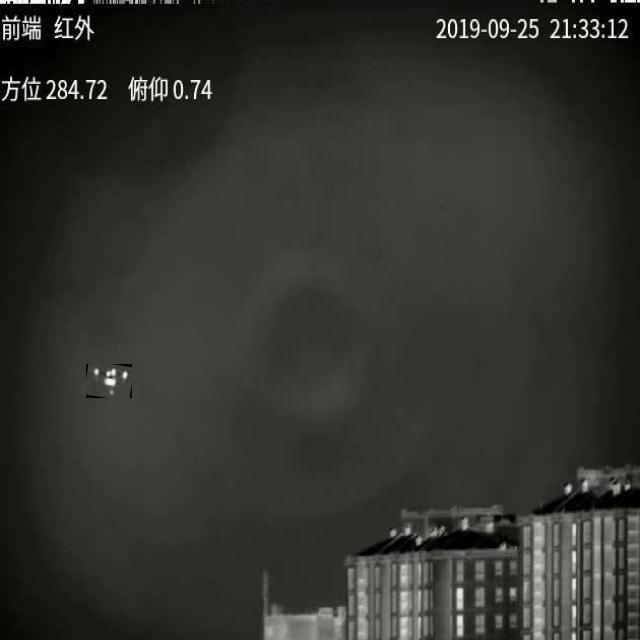drone: (86, 364, 132, 398)
